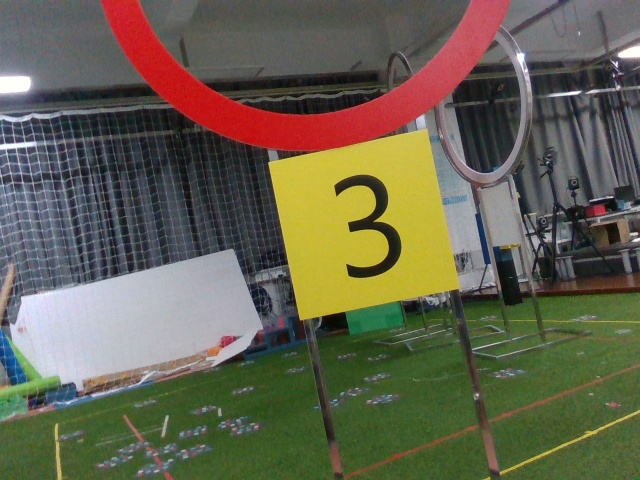target: (285, 150, 442, 295)
